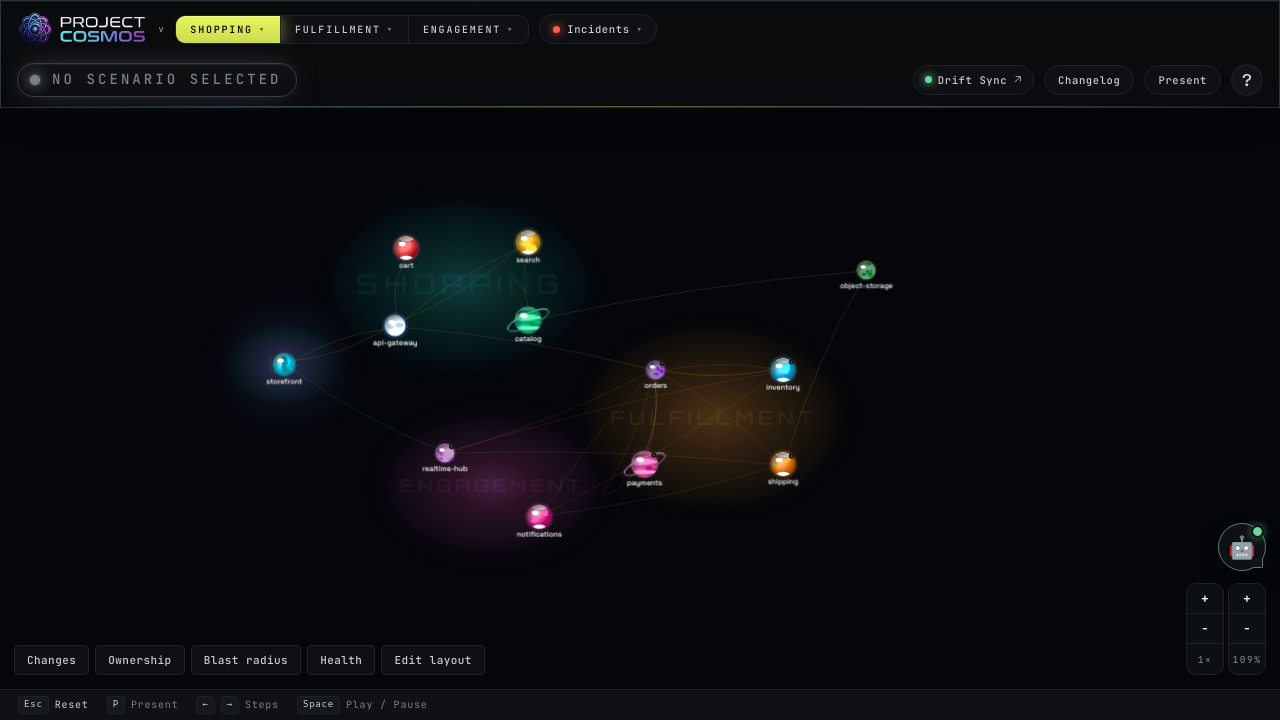
Test: Chat layout on desktop › pressing A also reopens the folded chat
Click the button named "Open the agent chat" at (1242, 547), box [1218,523,1266,571]
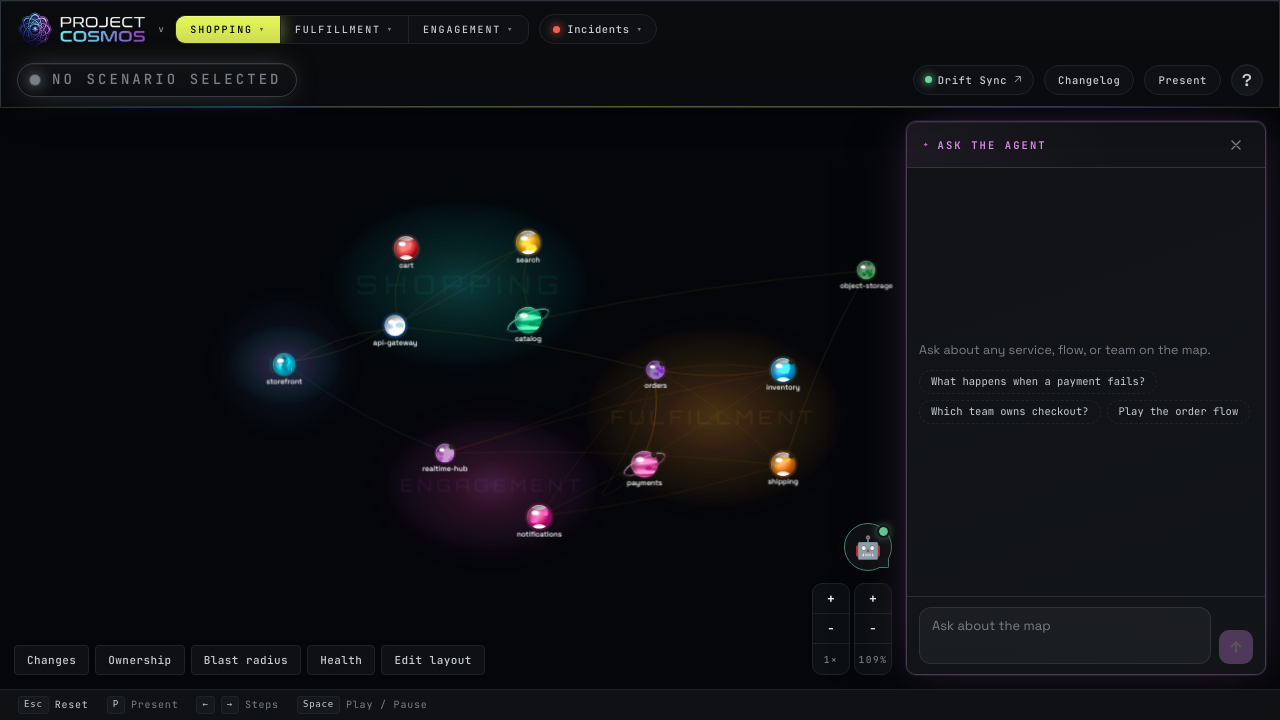
Type "Show me the order flow" into the text box named "Your question" at (1065, 636), box [919,607,1211,664]
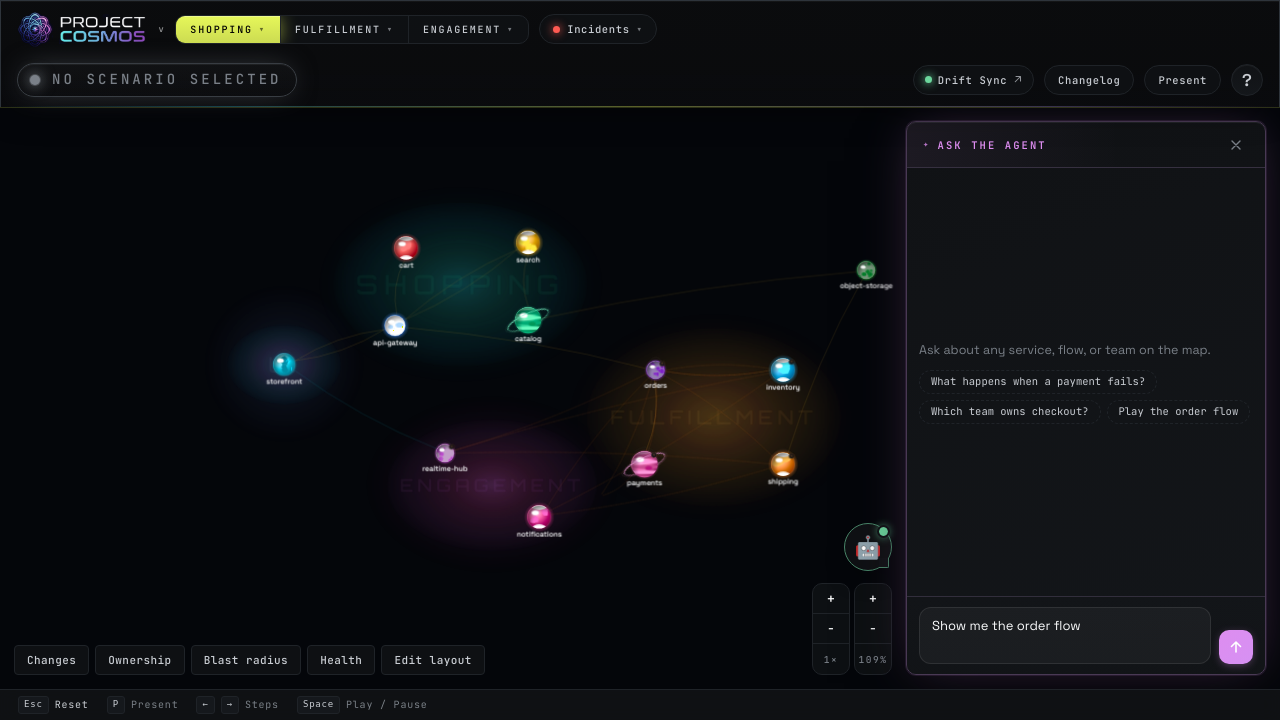
Click the button named "Send" at (1236, 647), box [1219,630,1253,664]
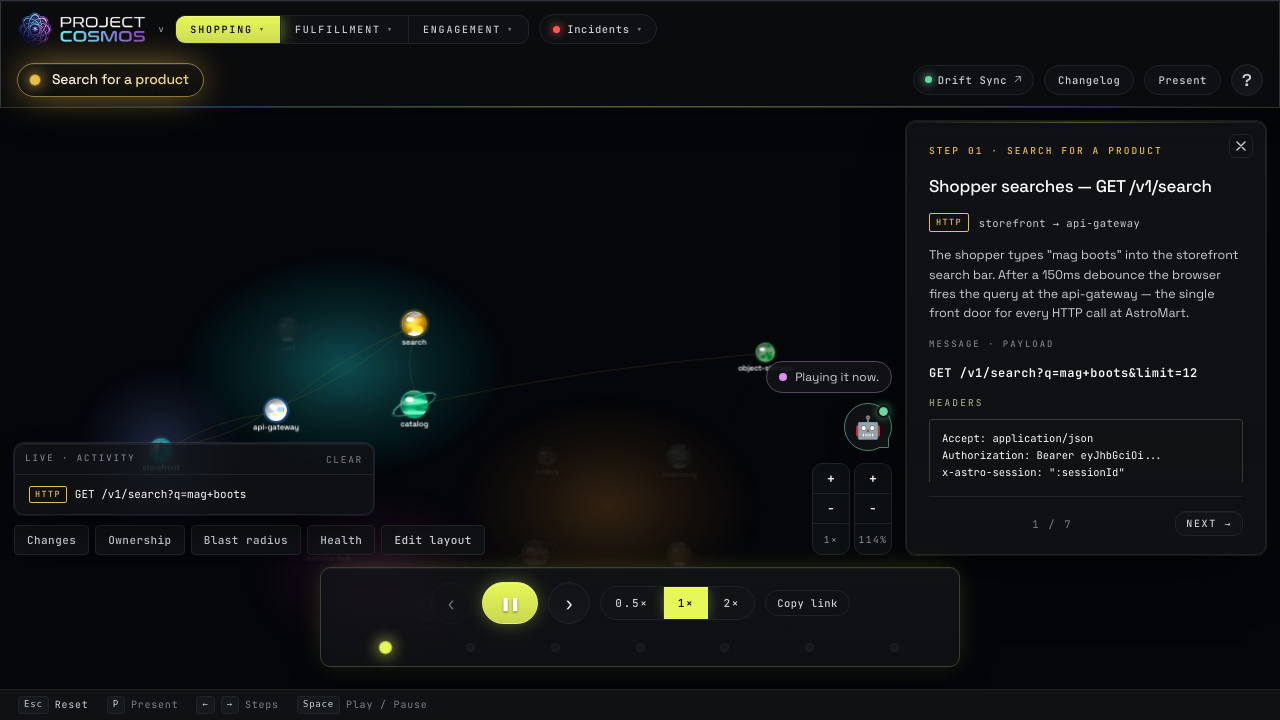
Now the button with class "lc-chat-tab" is shown, box [766,361,892,393]
Press a
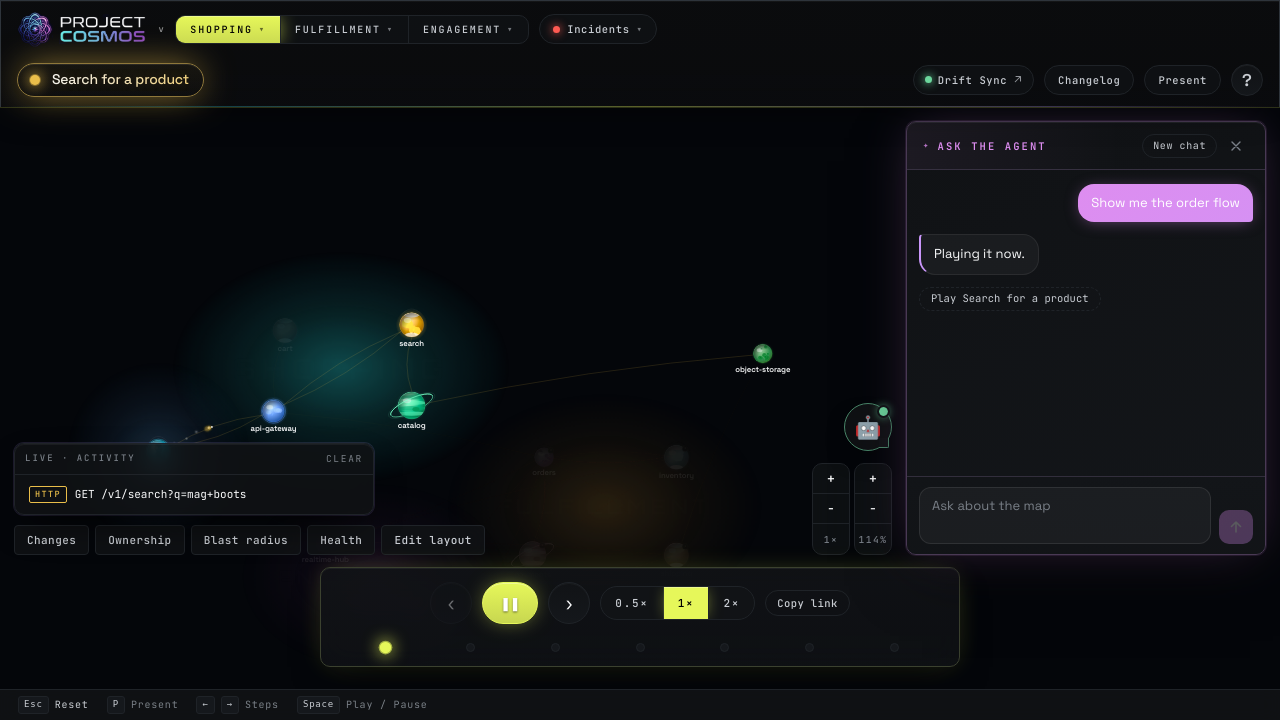
Now the element with class "lc-chat-panel" is shown, box [906,121,1266,555]
